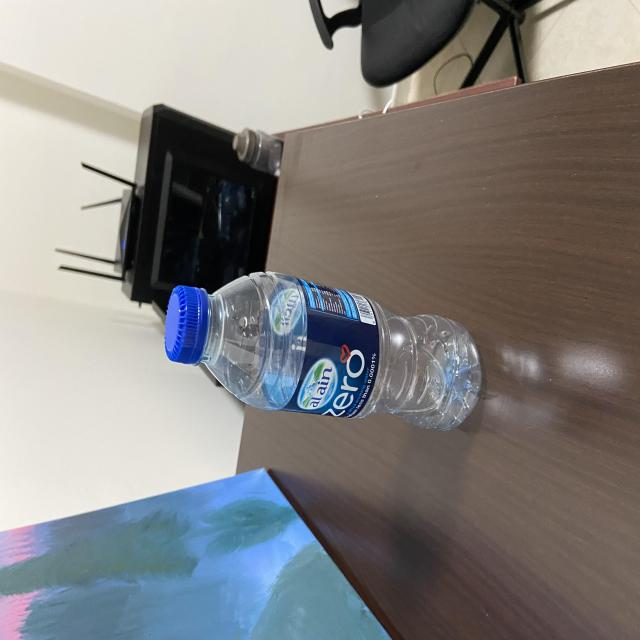plastic: (160, 263, 486, 436)
